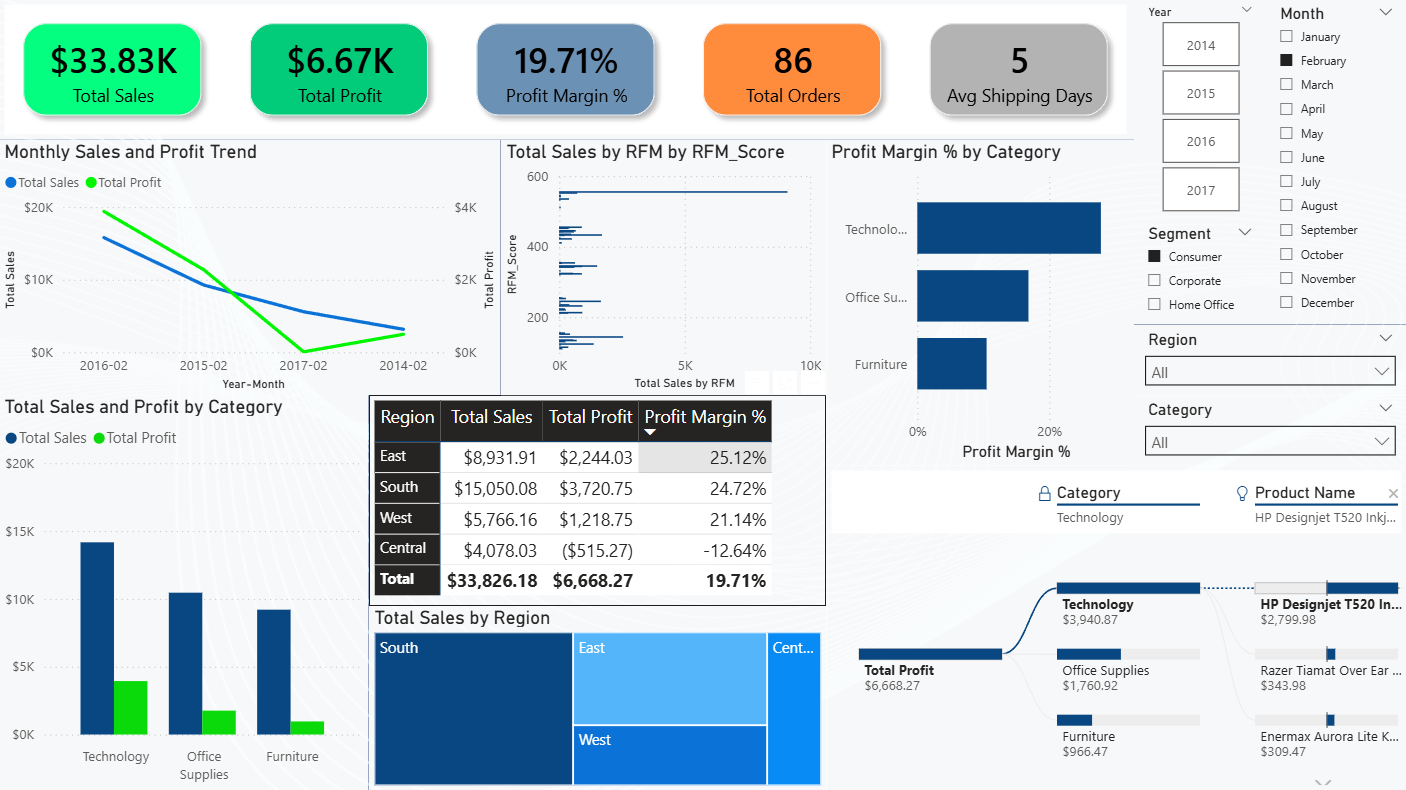

The dashboard page shown, as its layout file describes it:
{"tool":"powerbi","page":{"name":"Executive Summary","canvas":[1280,720],"ordinal":0},"visuals":[{"type":"cardVisual","fields":{"Data":["cleaned_superstore.Total Sales","cleaned_superstore.Total Profit","cleaned_superstore.Profit Margin %","cleaned_superstore.Total Orders","cleaned_superstore.Avg Shipping Days"]},"box":[0,0,1032,128],"z":0},{"type":"slicer","fields":{"Values":["cleaned_superstore.Category"]},"box":[1032,360,248,64],"z":1000},{"type":"slicer","fields":{"Values":["Date.Year"]},"box":[1032,0,120,200],"z":2000},{"type":"slicer","fields":{"Values":["cleaned_superstore.Region"]},"box":[1032,296,248,64],"z":3000},{"type":"slicer","fields":{"Values":["cleaned_superstore.Segment"]},"box":[1032,200,120,96],"z":4000},{"type":"slicer","fields":{"Values":["Date.Month"]},"box":[1152,0,128,296],"z":5000},{"type":"lineChart","title":"Monthly Sales and Profit Trend","fields":{"Category":["Date.Year-Month"],"Y":["cleaned_superstore.Total Sales"],"Y2":["cleaned_superstore.Total Profit"]},"box":[0,128,456,232],"z":6000},{"type":"clusteredColumnChart","title":"Total Sales and Profit by Category","fields":{"Category":["cleaned_superstore.Category"],"Y":["cleaned_superstore.Total Sales","cleaned_superstore.Total Profit"]},"box":[0,360,336,360],"z":7000},{"type":"clusteredBarChart","fields":{"Category":["cleaned_superstore.Category"],"Y":["cleaned_superstore.Profit Margin %"]},"box":[752,128,280,296],"z":8000},{"type":"treemap","fields":{"Values":["cleaned_superstore.Total Sales"],"Group":["cleaned_superstore.Region"]},"box":[336,552,416,168],"z":9000},{"type":"pivotTable","title":"Sales & Profit Performance by Region","fields":{"Rows":["cleaned_superstore.Region"],"Values":["cleaned_superstore.Total Sales","cleaned_superstore.Total Profit","cleaned_superstore.Profit Margin %"]},"box":[336,360,416,192],"z":10000},{"type":"clusteredBarChart","fields":{"Category":["rfm_segmented.RFM_Score"],"Y":["rfm_segmented.Total Sales by RFM"]},"box":[456,128,296,232],"z":11000},{"type":"decompositionTreeVisual","fields":{"ExplainBy":["cleaned_superstore.Category","cleaned_superstore.Product Name","cleaned_superstore.Sub-Category"],"Analyze":["cleaned_superstore.Total Profit"]},"box":[752,424,528,296],"z":12000}]}

Visuals, with their boxes in screenshot pixels (x1, y1, x2, y2), scaled from the page's 1280x720 canvas onto the 1406x790 screenshot:
cardVisual - cleaned_superstore.Total Sales x cleaned_superstore.Total Profit: crop(0, 0, 1134, 140)
slicer - cleaned_superstore.Category: crop(1134, 395, 1405, 465)
slicer - Date.Year: crop(1134, 0, 1265, 219)
slicer - cleaned_superstore.Region: crop(1134, 325, 1405, 395)
slicer - cleaned_superstore.Segment: crop(1134, 219, 1265, 325)
slicer - Date.Month: crop(1265, 0, 1405, 325)
"Monthly Sales and Profit Trend" lineChart: crop(0, 140, 501, 395)
"Total Sales and Profit by Category" clusteredColumnChart: crop(0, 395, 369, 789)
clusteredBarChart - cleaned_superstore.Category x cleaned_superstore.Profit Margin %: crop(826, 140, 1134, 465)
treemap - cleaned_superstore.Total Sales x cleaned_superstore.Region: crop(369, 606, 826, 789)
"Sales & Profit Performance by Region" pivotTable: crop(369, 395, 826, 606)
clusteredBarChart - rfm_segmented.RFM_Score x rfm_segmented.Total Sales by RFM: crop(501, 140, 826, 395)
decompositionTreeVisual - cleaned_superstore.Category x cleaned_superstore.Product Name: crop(826, 465, 1405, 789)
